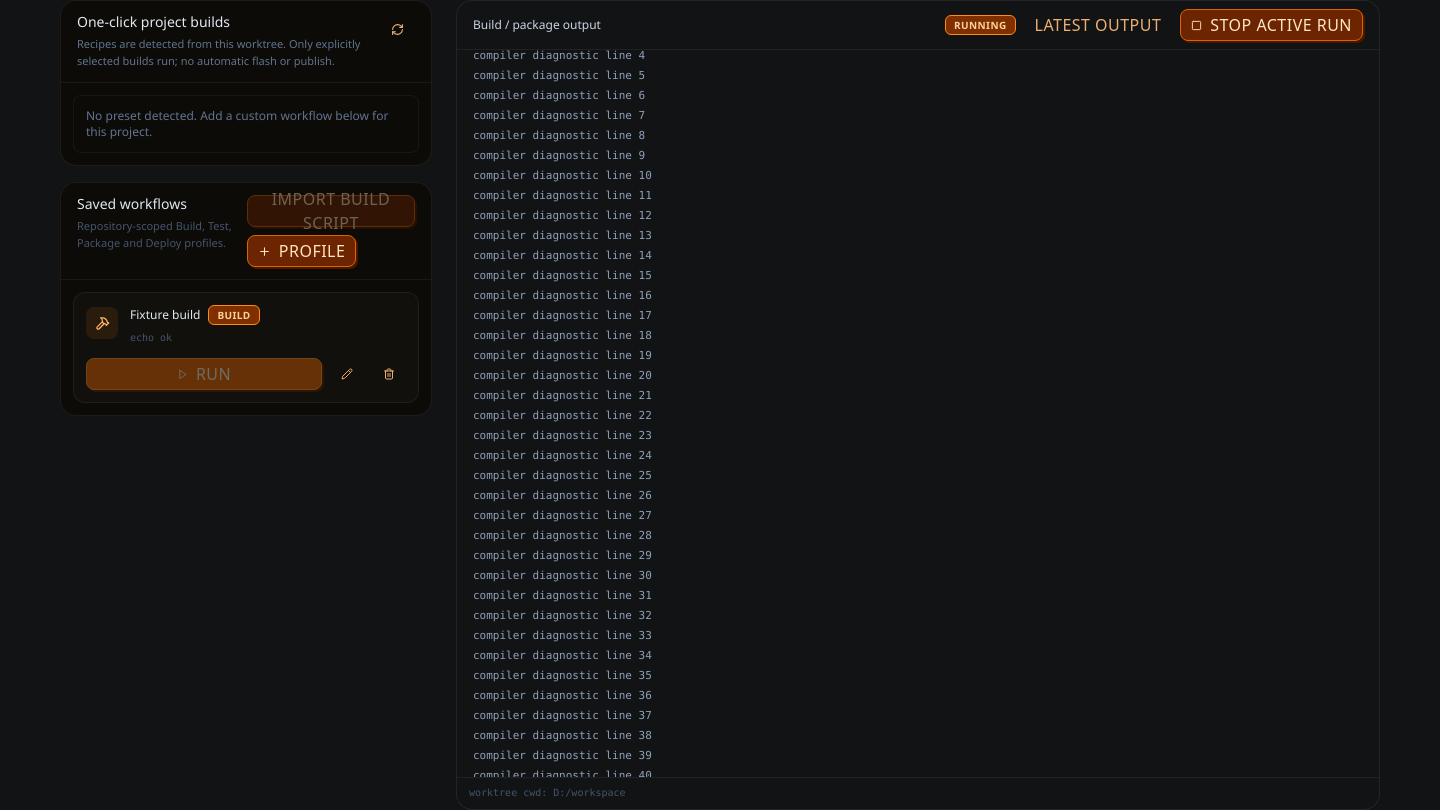
Test: ProcessRunner controls › keeps long build logs within the pane and does not move the whole workspace
The image size is (1440, 810).
(page scrolled)
Step 1. Click the button "Latest output" → coordinates (1098, 25), box x1=1024 y1=9 x2=1172 y2=41
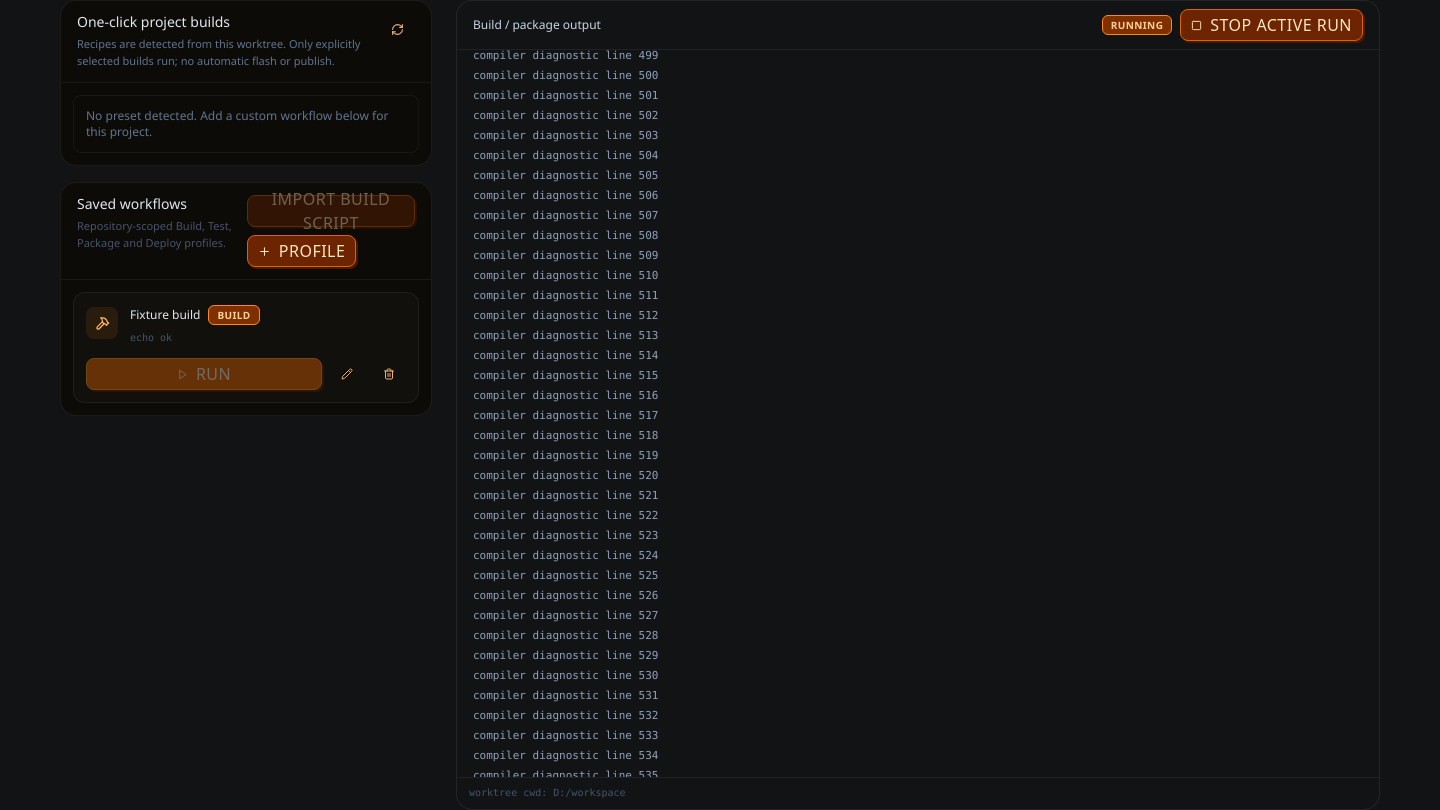
Expected: the button "Latest output" is gone
